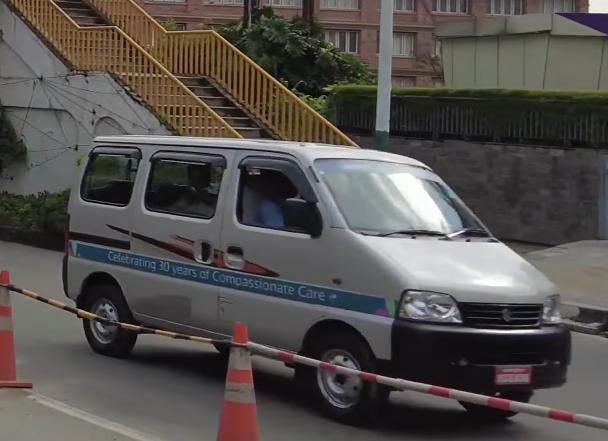van: (63, 119, 577, 421)
